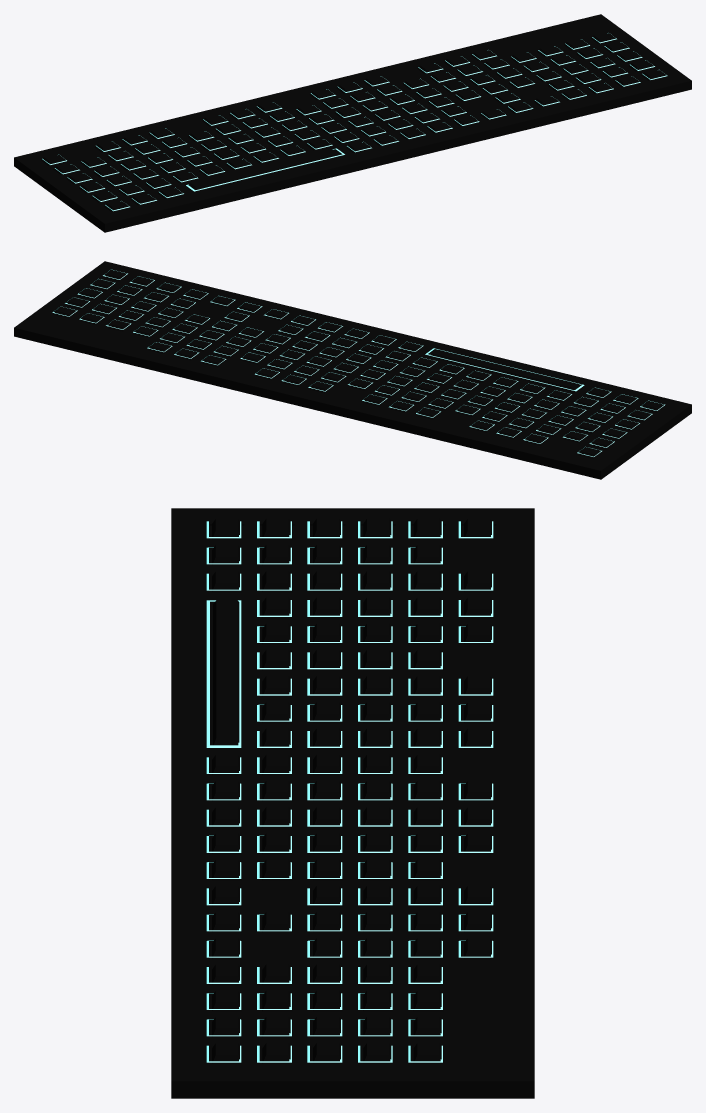
3 renders of one model, top to bottom at view 1: azimuth 30°, elevation 25°; view 2: azimuth 150°, elevation 25°; view 3: azimuth 270°, elevation 25°, orthographic. The views are drawn at different scales.
Parts seen in each view (by area): view 1: Object_11; view 2: Object_11; view 3: Object_11.
Part boxes in pixels (x1,y1,x2,y2): Object_11: (14, 14, 691, 232); Object_11: (14, 261, 691, 479); Object_11: (171, 508, 534, 1098).
Size of the model in its own units: 0.617 by 0.0128 by 0.1654.
